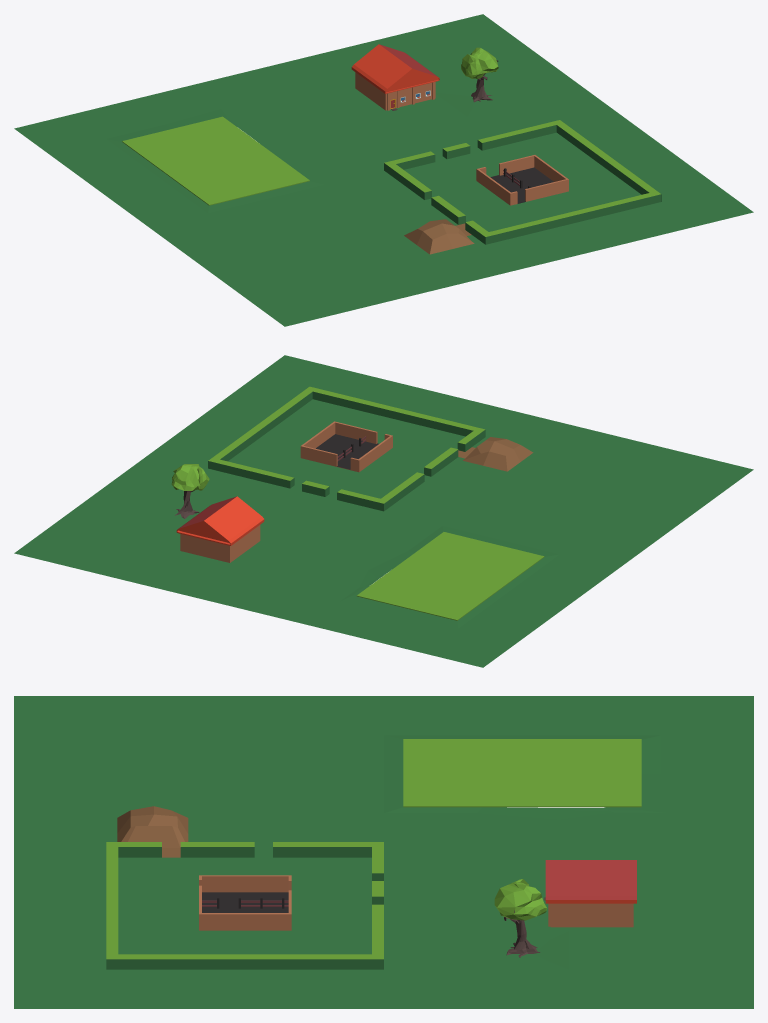
File: farm_land.gltf
3 views of the same model, one above another, from view 1: azimuth 30°, elevation 25°; view 2: azimuth 150°, elevation 25°; view 3: azimuth 270°, elevation 25° (orthographic). The views are drawn at different scales.
Visible parts, largest first — view 1: farm_land, farm_field, farm_house, farm_stable; view 2: farm_land, farm_field, farm_house, farm_stable; view 3: farm_land, farm_field, farm_house, farm_stable.
Boxes of the visible parts, x1,y1,x2,y2 form: farm_land: (14, 14, 753, 326); farm_field: (122, 116, 309, 205); farm_house: (351, 44, 439, 110); farm_stable: (476, 155, 568, 205); farm_land: (14, 355, 753, 667); farm_field: (356, 532, 544, 620); farm_house: (176, 496, 264, 562); farm_stable: (300, 421, 392, 472); farm_land: (14, 696, 753, 1008); farm_field: (403, 739, 641, 807); farm_house: (544, 860, 636, 927); farm_stable: (199, 875, 291, 930).
Size of what is drawn, in the model's own units: 128 by 14.41 by 128.
Materials: 1 (1 with a texture image).
